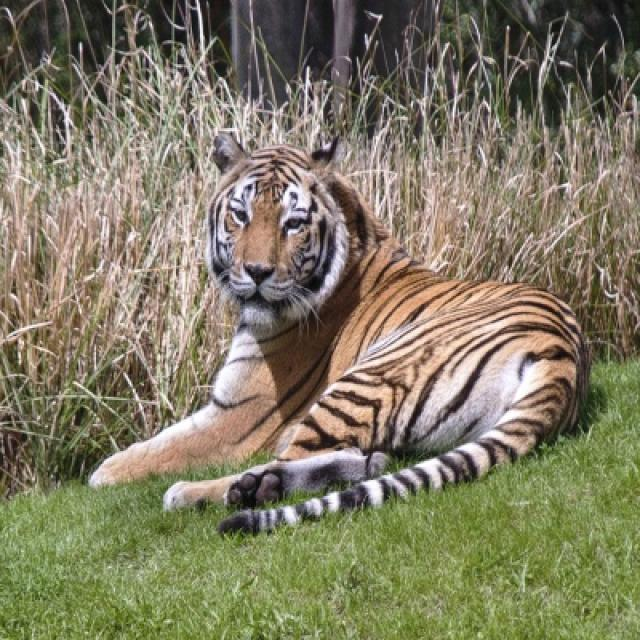Tiger: (91, 133, 589, 530)
